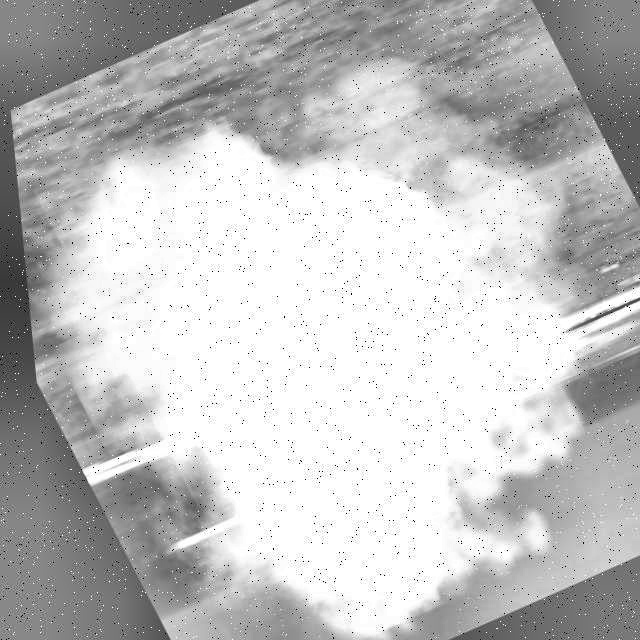Smoke: (15, 0, 640, 640)
